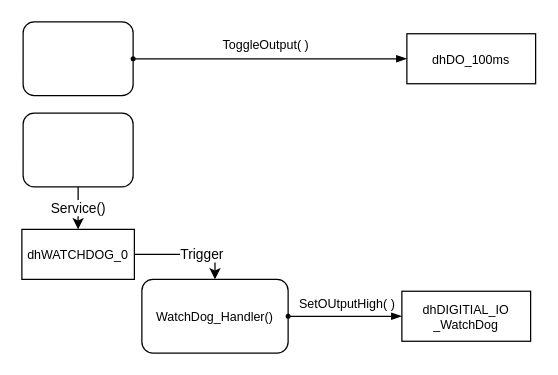
The diagram is 558 pixels wide and 375 high, and some of its shapes have lost their labels. The box of each missing label's shape, as (x1, y1, x2, y2) in pixels:
Task1000ms( ): (22, 112, 133, 187)
Task100ms( ): (22, 21, 133, 96)
